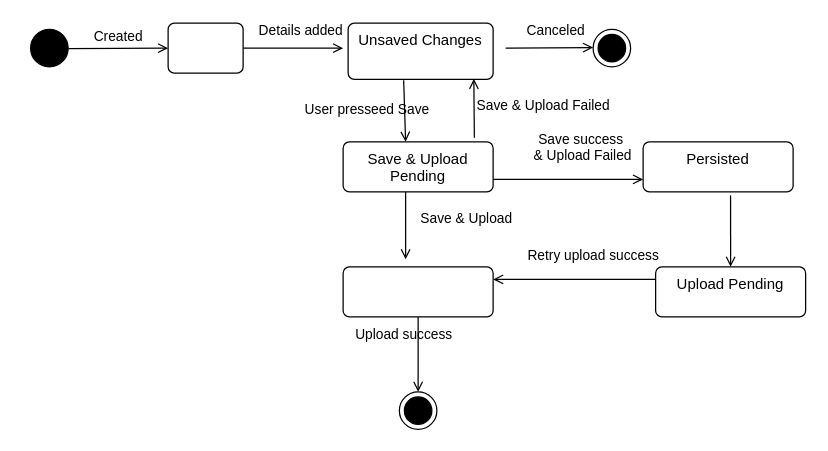
The diagram is 828 pixels wide and 451 high, and some of its shapes have lost their labels. The centre of each missing label's shape, as x and y in pixels:
"New" belongs at (205,47).
"Persisted & Uploaded" belongs at (417,291).
